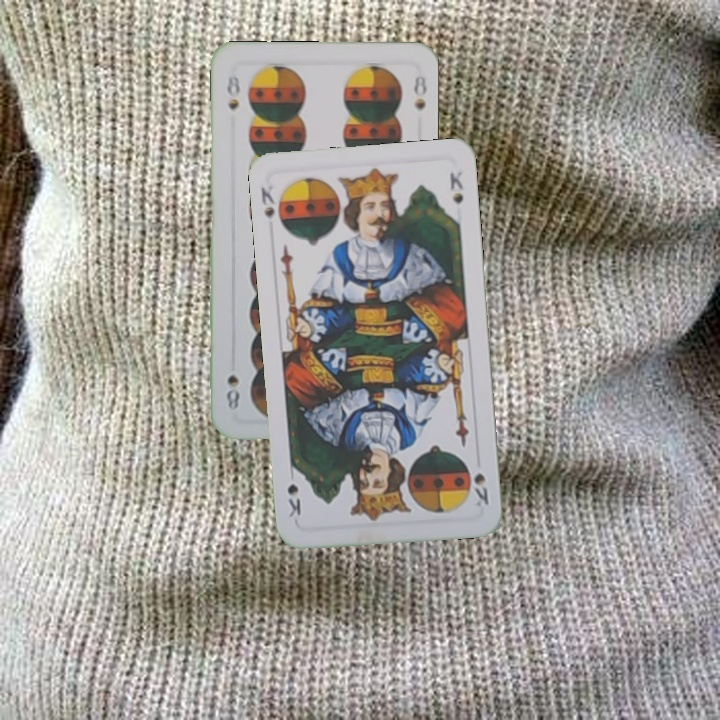S8: (223, 71, 243, 113)
SK: (470, 469, 491, 509), (256, 181, 277, 220)
